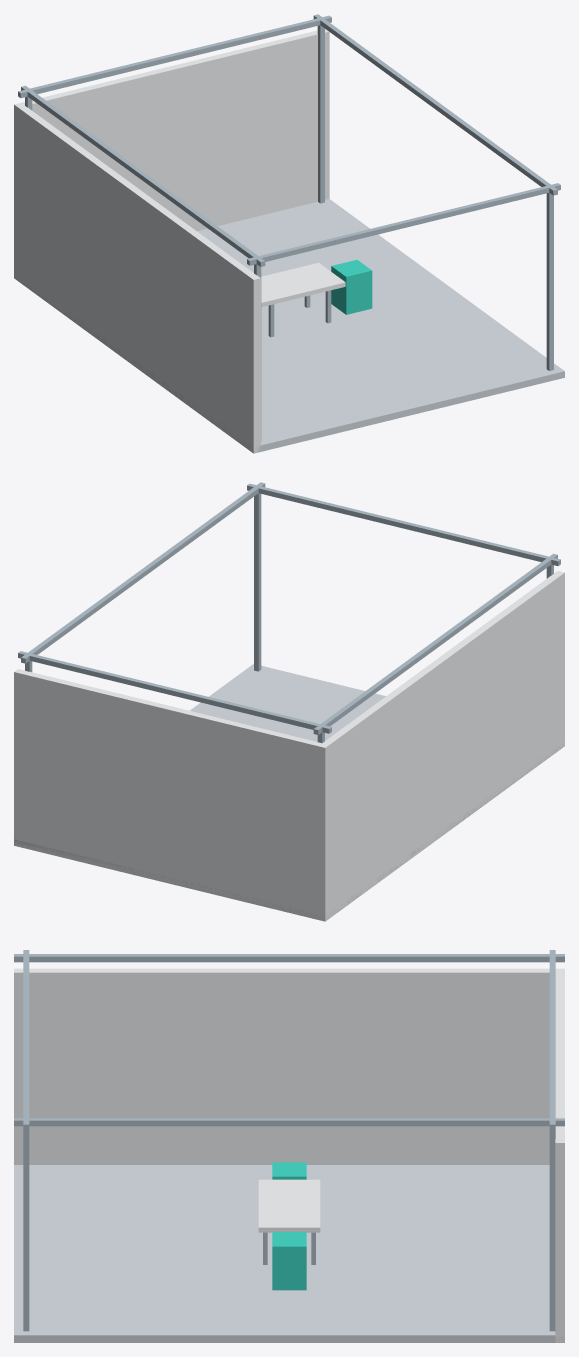
3 views of the same model, one above another, from view 1: azimuth 30°, elevation 25°; view 2: azimuth 150°, elevation 25°; view 3: azimuth 270°, elevation 25° (orthographic). The views are drawn at different scales.
Visible parts, largest first — view 1: Exhibition Booth Concept; view 2: Exhibition Booth Concept; view 3: Exhibition Booth Concept.
Boxes of the visible parts, x1=… form: Exhibition Booth Concept: x1=14, y1=14, x2=564, y2=453; Exhibition Booth Concept: x1=14, y1=482, x2=564, y2=921; Exhibition Booth Concept: x1=14, y1=950, x2=564, y2=1342.
Bounding box in the file's own units: 6 × 3.49 × 8.
